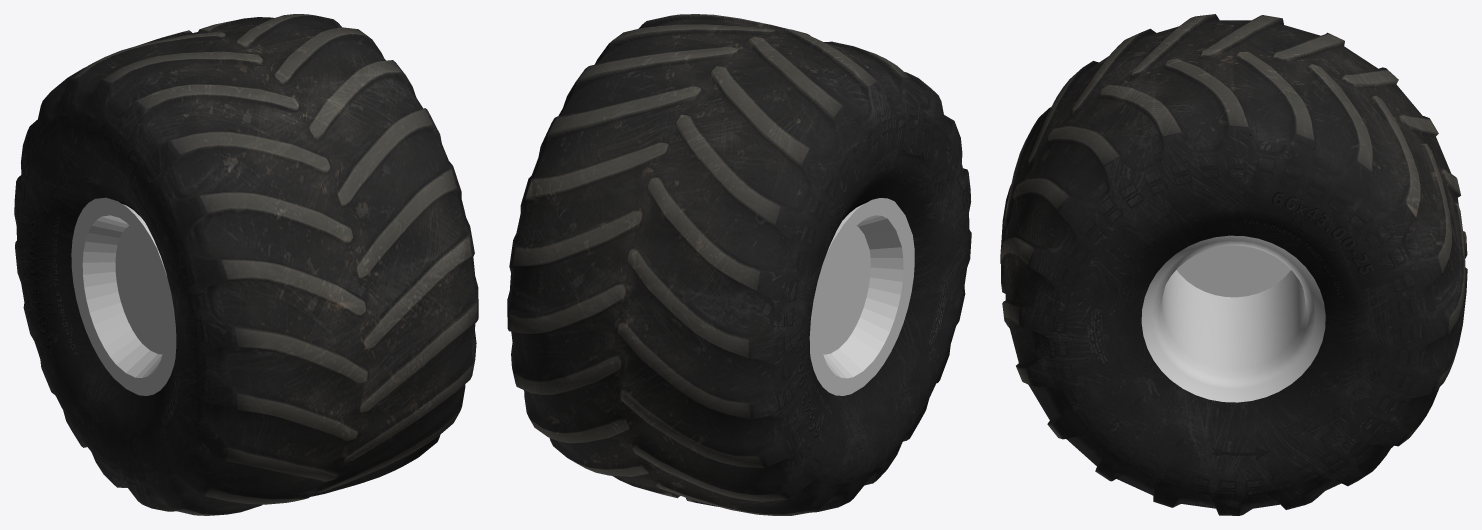
Rendered from New Tire Final 2 in 1.fbx.
3 renders of one model, left to right at view 1: azimuth 30°, elevation 25°; view 2: azimuth 150°, elevation 25°; view 3: azimuth 270°, elevation 25°, orthographic. The views are drawn at different scales.
Parts seen in each view (by area): view 1: CRD_gripalltire_FL1, CRD_rimA_FL; view 2: CRD_gripalltire_FL1, CRD_rimA_FL; view 3: CRD_gripalltire_FL1, CRD_rimA_FL.
Boxes of the visible parts, box(x1,y1,x2,y2) form: CRD_gripalltire_FL1: box(14, 14, 478, 515); CRD_rimA_FL: box(71, 197, 176, 395); CRD_gripalltire_FL1: box(507, 14, 971, 515); CRD_rimA_FL: box(809, 198, 914, 395); CRD_gripalltire_FL1: box(1000, 14, 1467, 515); CRD_rimA_FL: box(1141, 235, 1325, 402).
Size of the model in its own units: 114 by 172 by 172.
